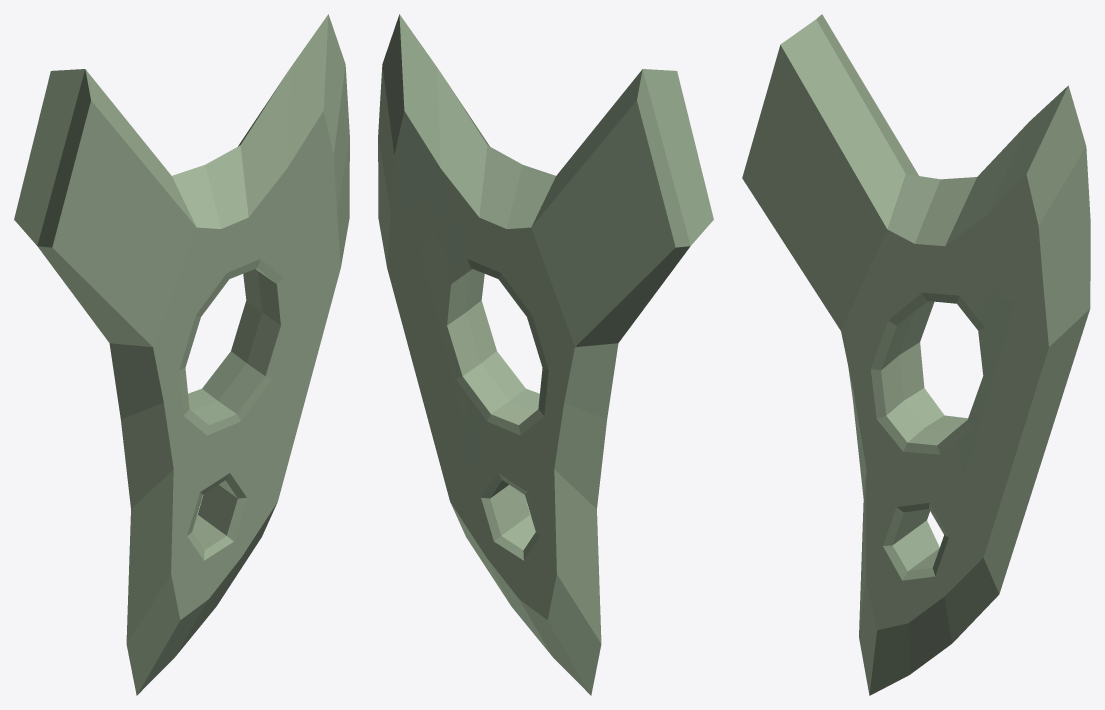
Rendered from ufoFoot.fbx.
The picture shows the model from 3 angles, left to right: view 1: azimuth 30°, elevation 25°; view 2: azimuth 150°, elevation 25°; view 3: azimuth 330°, elevation 25°; orthographic projection. The views are drawn at different scales.
Visible parts, largest first — view 1: Circle.001; view 2: Circle.001; view 3: Circle.001.
Part boxes in pixels (x1,y1,x2,y2): Circle.001: (14,14,349,695); Circle.001: (378,14,713,695); Circle.001: (742,14,1090,695).
Bounding box in the file's own units: 109 × 211 × 26.17.
